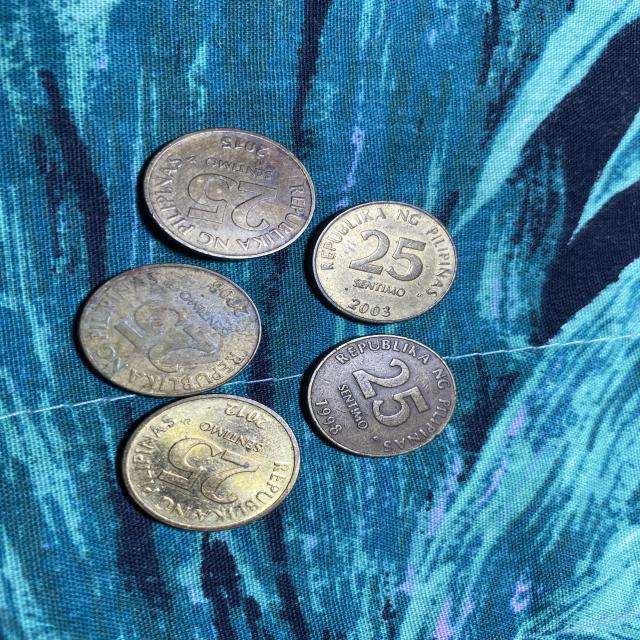25Cent_Old_Front: (115, 300, 207, 374), (161, 436, 257, 504), (186, 171, 273, 231), (354, 358, 428, 428), (352, 228, 426, 282)
